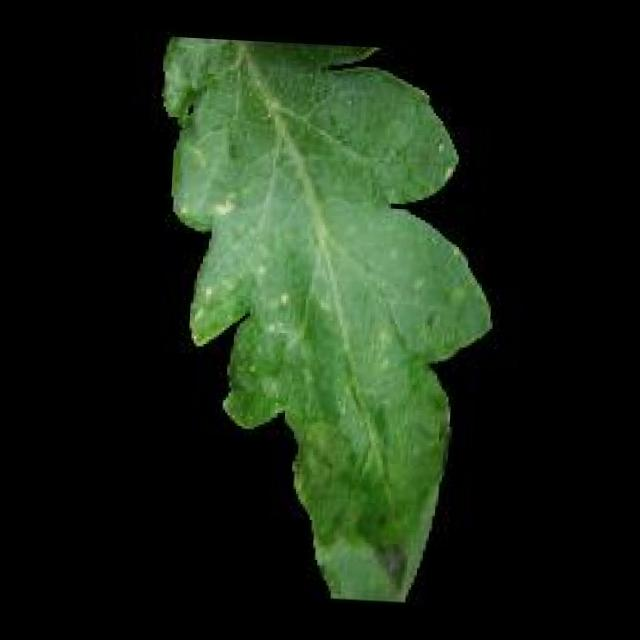Tomato_Late_Blight: (324, 479, 436, 607)
